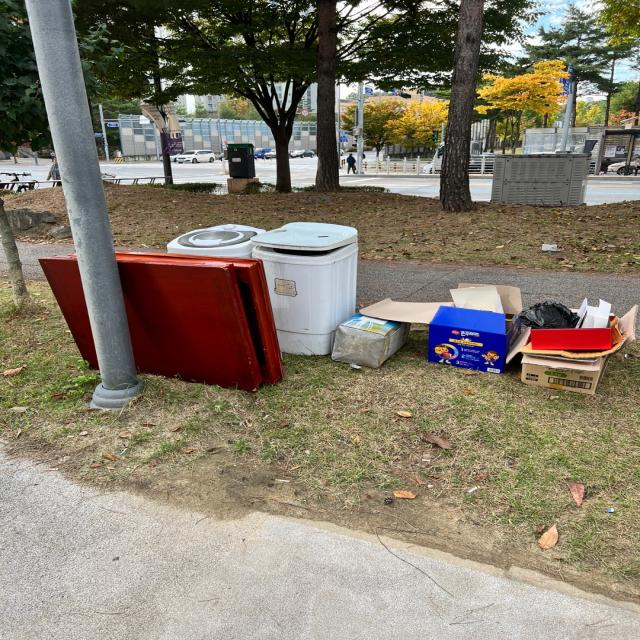General Waste: (332, 288, 640, 395)
Large Waste Items: (42, 243, 286, 390), (249, 223, 360, 357), (168, 227, 258, 267)
